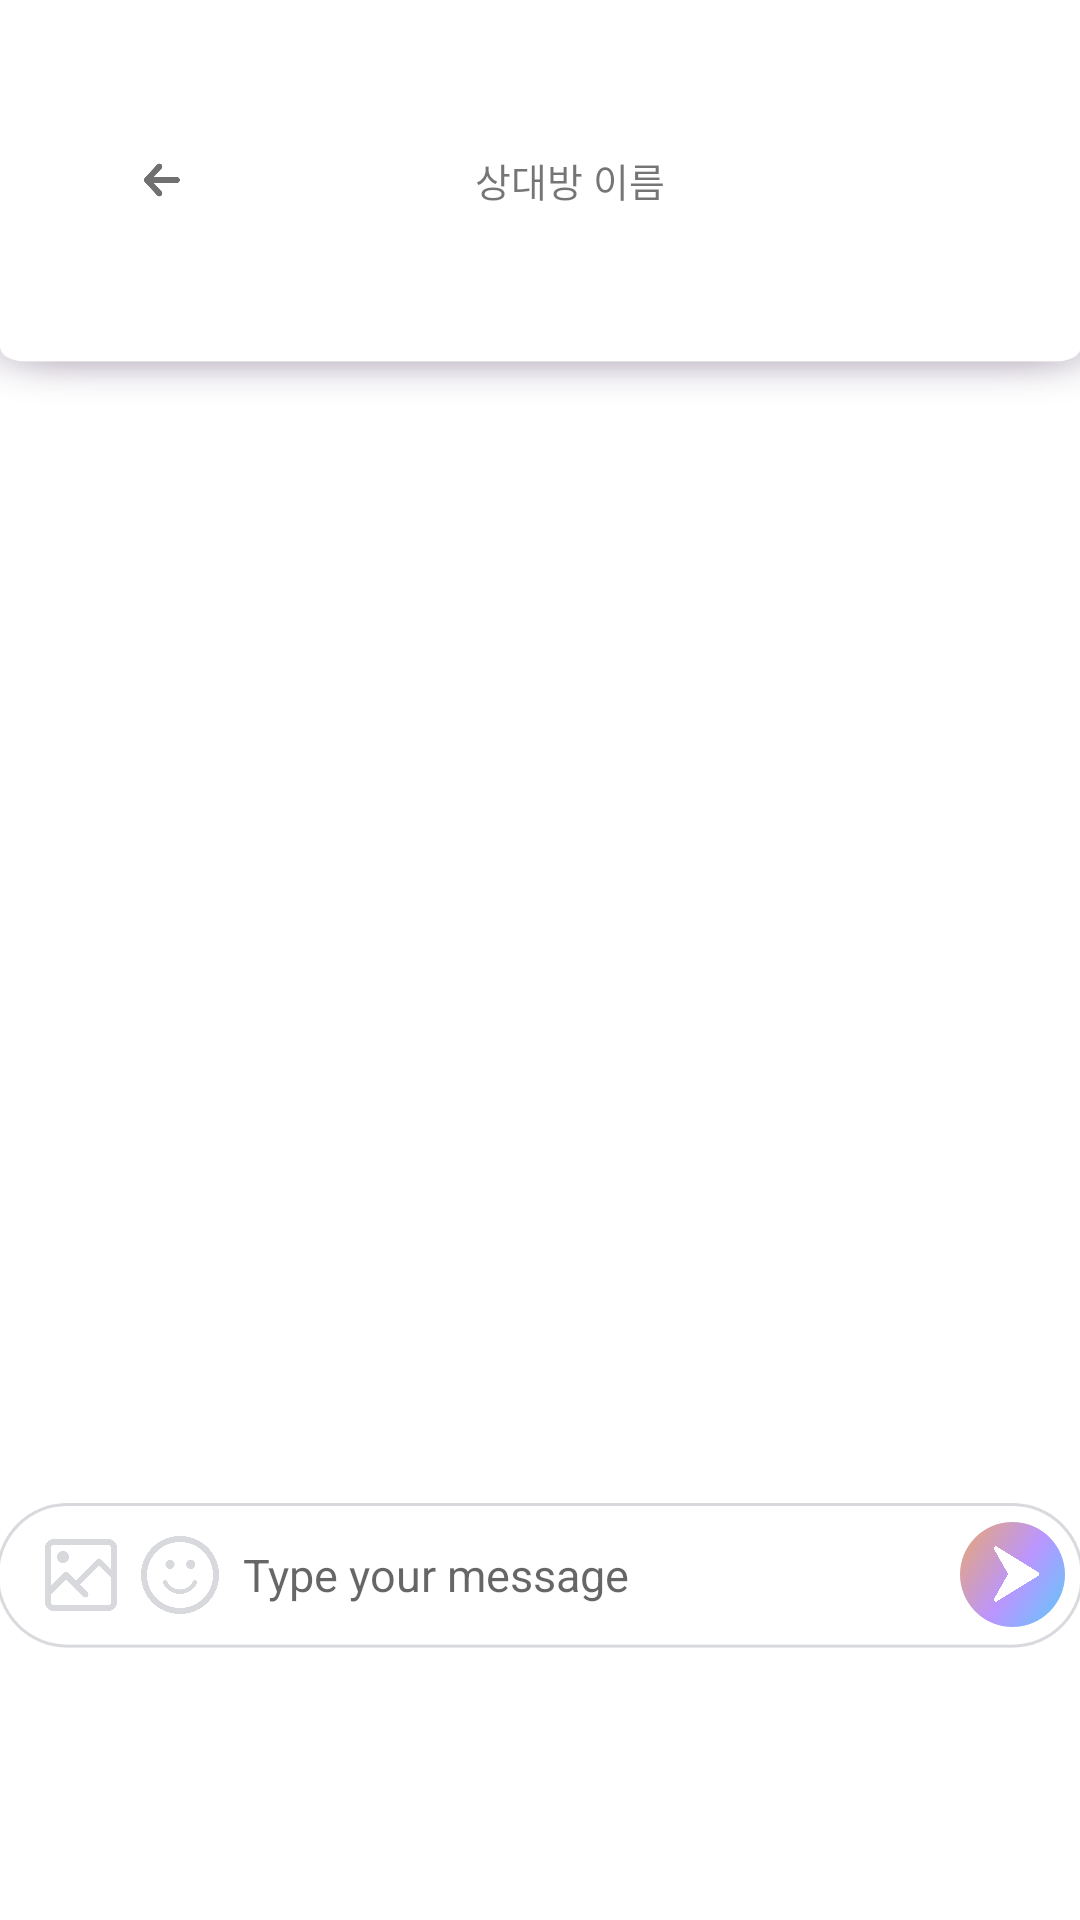

Icon click points for this 1080 x 1920 phone screenshot, format (x=x, y=y):
yj back: (x=162, y=180)
